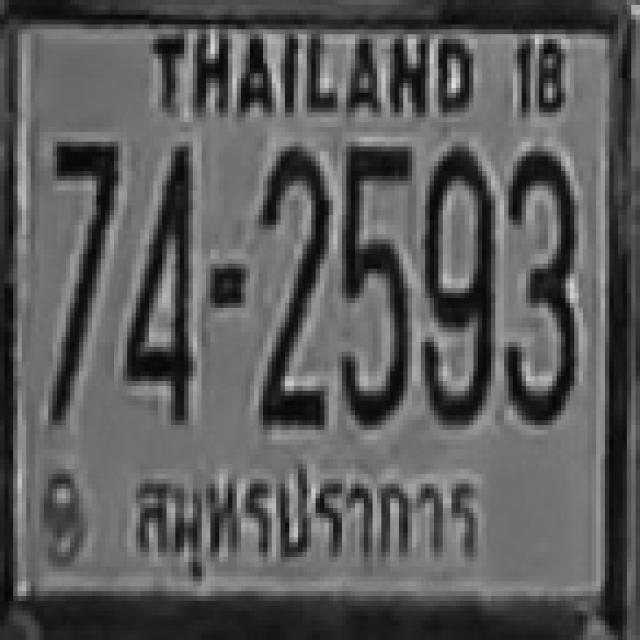0: (421, 144, 491, 320)
2: (258, 146, 328, 366)
3: (500, 152, 574, 420)
4: (120, 142, 190, 420)
7: (53, 139, 119, 296)
9: (416, 168, 491, 422), (416, 200, 491, 420)
SamutPrakan: (115, 449, 493, 592)
